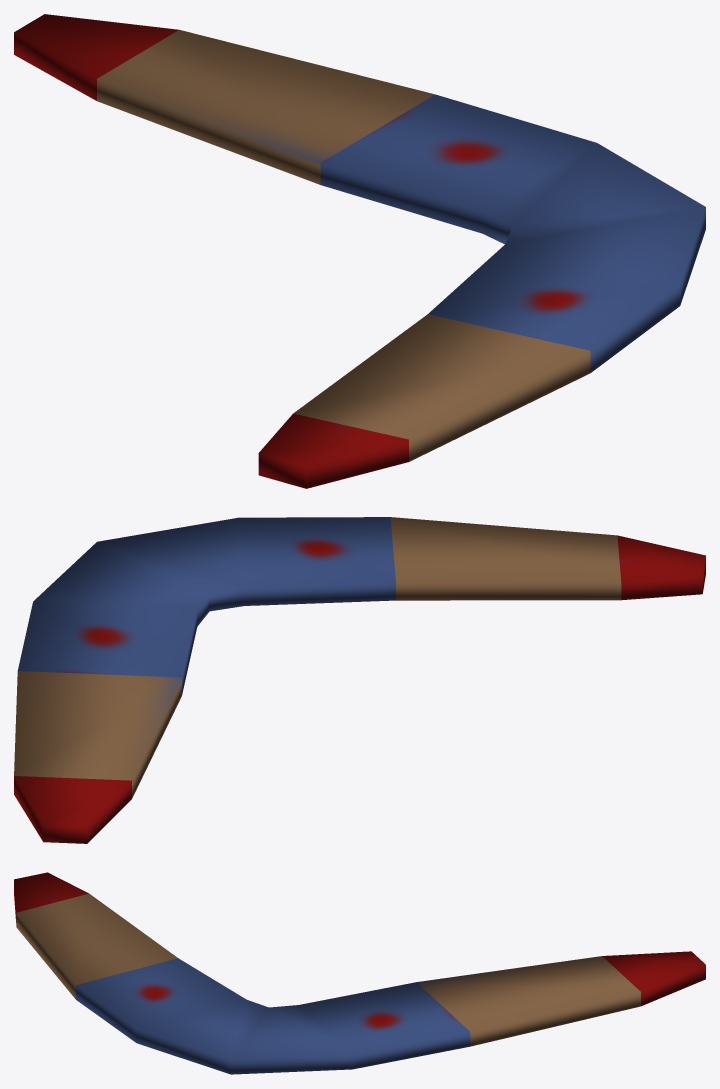
Rendered from boomerang.fbx.
3 renders of one model, top to bottom at view 1: azimuth 30°, elevation 25°; view 2: azimuth 150°, elevation 25°; view 3: azimuth 270°, elevation 25°, orthographic. The views are drawn at different scales.
Parts seen in each view (by area): view 1: boomerang; view 2: boomerang; view 3: boomerang.
Boxes of the visible parts, <box> form: boomerang: <box>14,14,705,488</box>; boomerang: <box>14,517,705,843</box>; boomerang: <box>14,872,705,1074</box>.
Size of the model in its own units: 0.9571 by 0.035 by 1.49.
